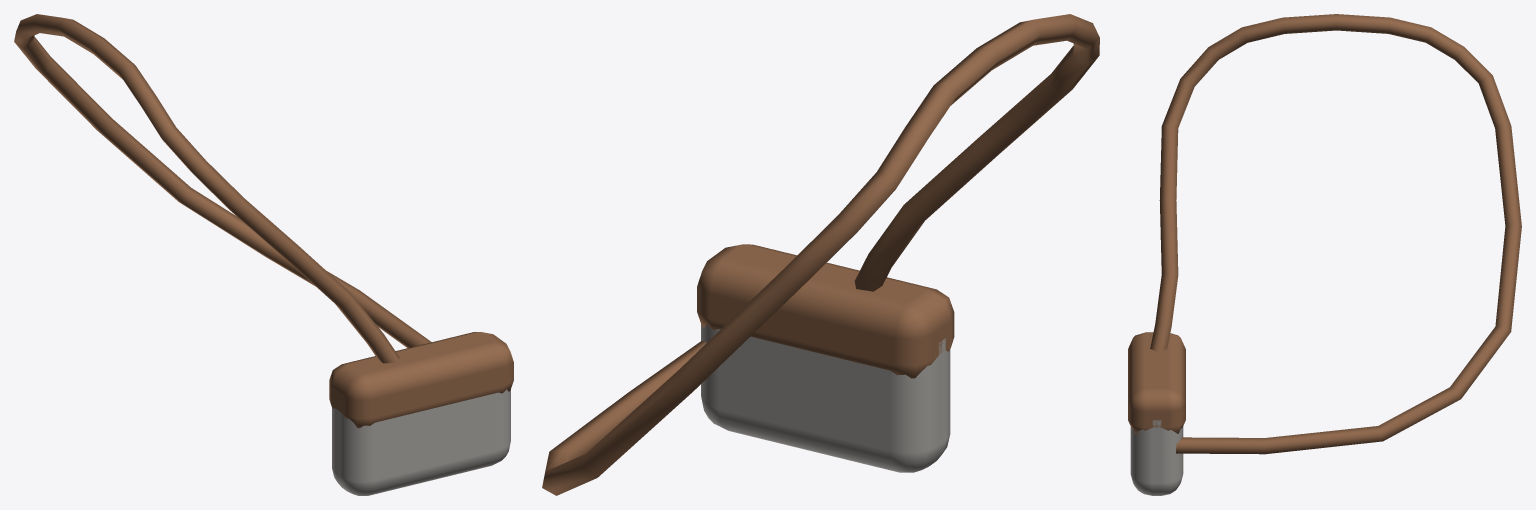
The model's file is clutch.glb.
3 views of the same model, side by side, from view 1: azimuth 30°, elevation 25°; view 2: azimuth 150°, elevation 25°; view 3: azimuth 270°, elevation 25° (orthographic). The views are drawn at different scales.
Visible parts, largest first — view 1: clutch_Body; view 2: clutch_Body; view 3: clutch_Body.
Boxes of the visible parts, box(x1,y1,x2,y2) form: clutch_Body: box(14, 14, 513, 495); clutch_Body: box(542, 14, 1099, 495); clutch_Body: box(1128, 14, 1521, 495).
Bounding box in the file's own units: 0.3581 × 0.4541 × 0.4496.
